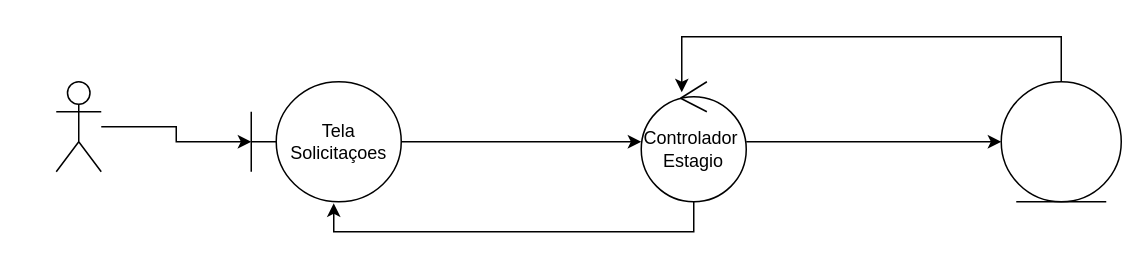
Some shapes in this 1148 by 270 pixel diagram are drawn without their labels. Here are the shapes that lost their labels. From the top down, the centre of each, then its label:
(78,126): Coordenador
(1060,141): BD Estagio
